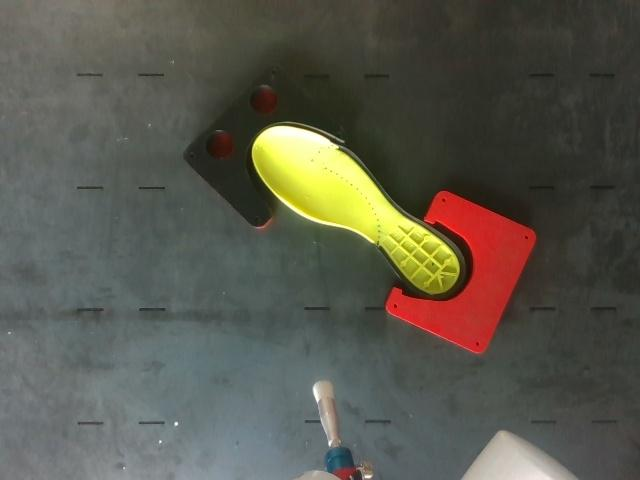shoes: (251, 124, 463, 299)
